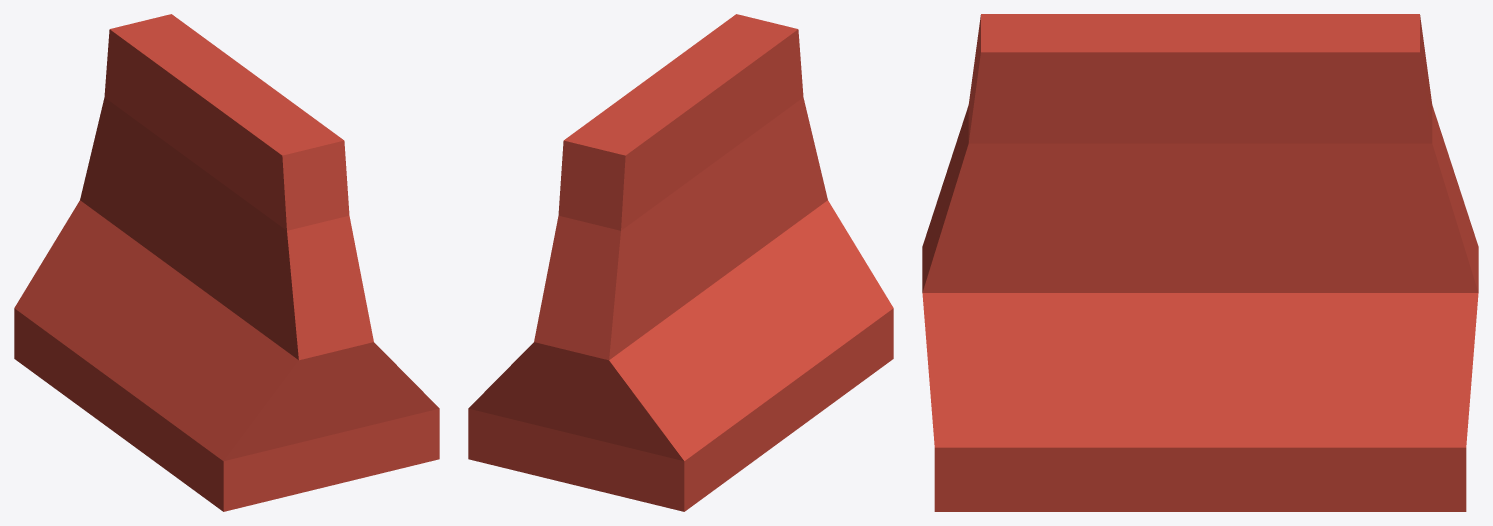
Rendered from traffic_barrier_red_1.fbx.
The picture shows the model from 3 angles, left to right: view 1: azimuth 30°, elevation 25°; view 2: azimuth 150°, elevation 25°; view 3: azimuth 270°, elevation 25°; orthographic projection. The views are drawn at different scales.
Parts seen in each view (by area): view 1: traffic_barrier_red_1; view 2: traffic_barrier_red_1; view 3: traffic_barrier_red_1.
Part boxes in pixels (box(x1,y1,x2,y2)): traffic_barrier_red_1: box(14, 14, 439, 511); traffic_barrier_red_1: box(468, 14, 893, 511); traffic_barrier_red_1: box(922, 14, 1478, 511).
Bounding box in the file's own units: 119 × 171 × 209.
